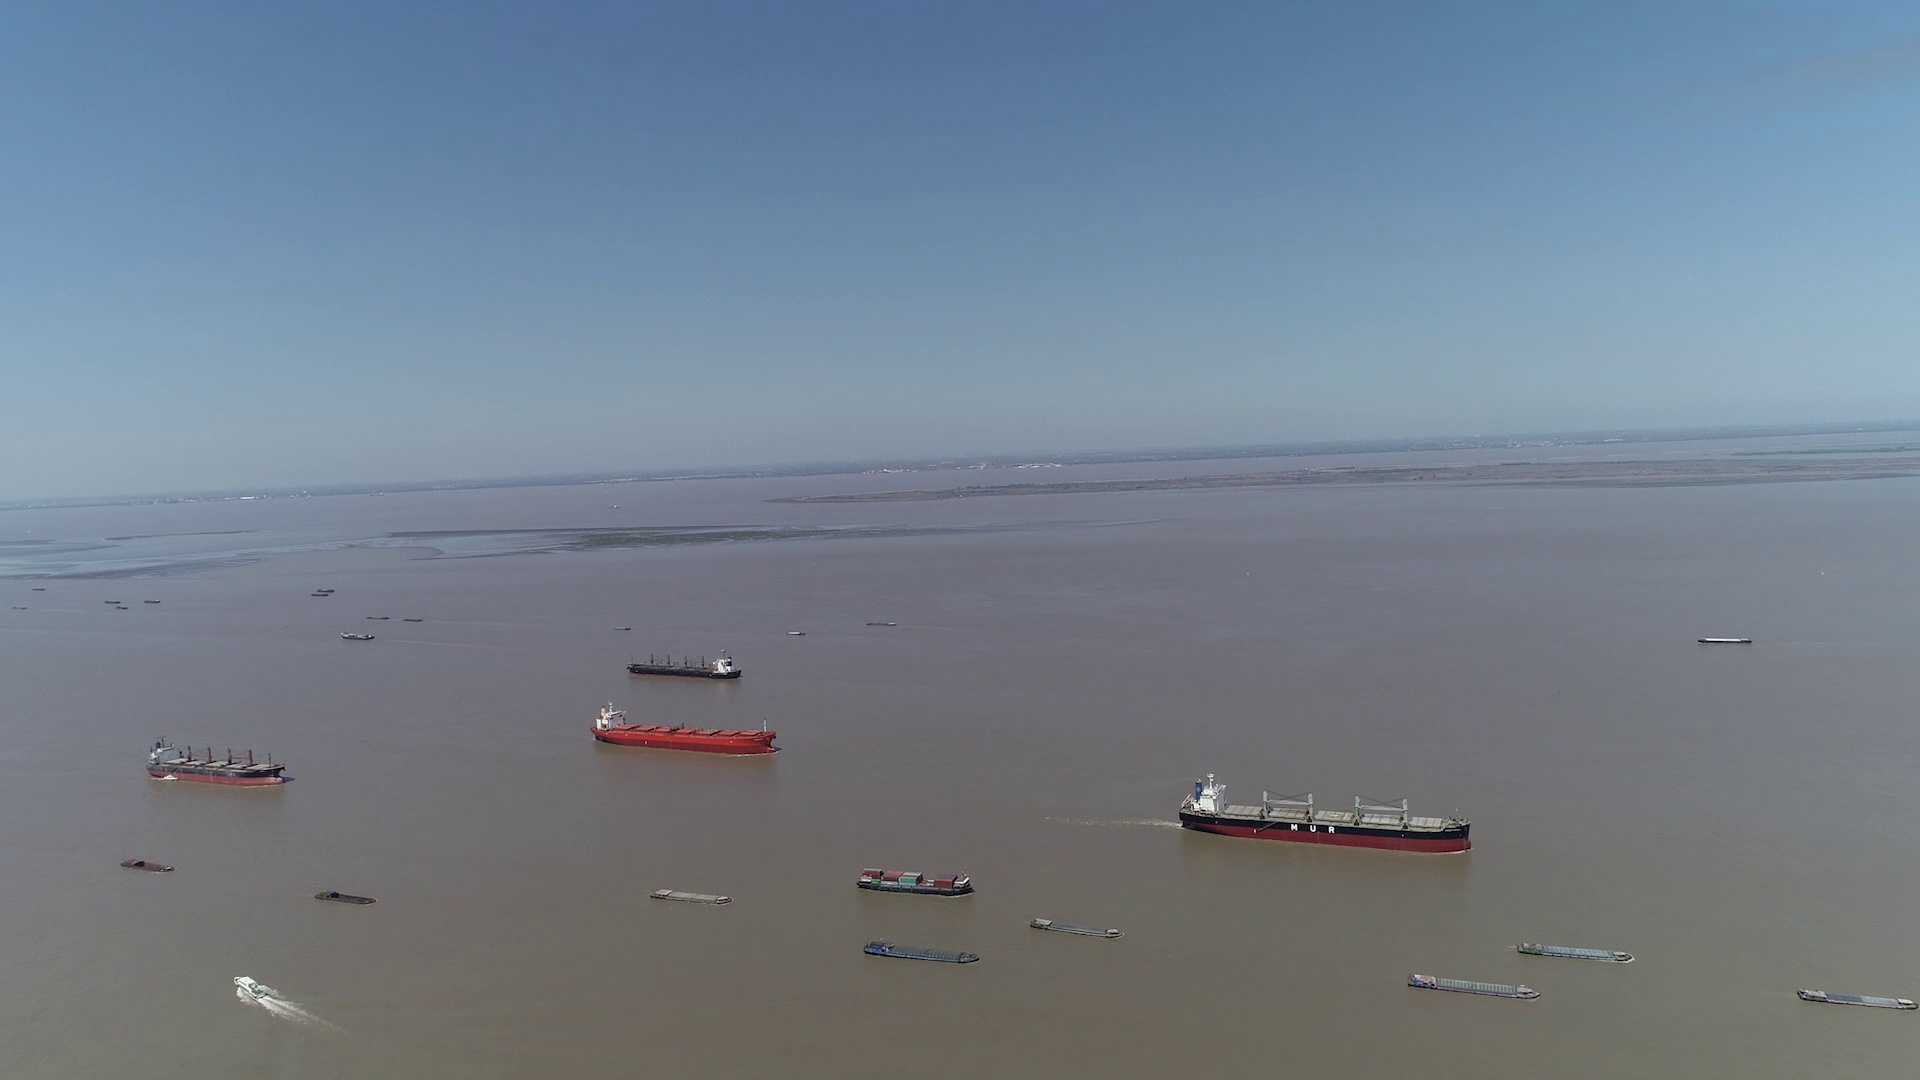ship: (1179, 775, 1472, 855), (591, 703, 778, 753), (148, 736, 287, 786), (1404, 972, 1544, 1000), (856, 868, 972, 895), (626, 651, 740, 678), (1796, 986, 1916, 1009), (862, 940, 978, 963), (1516, 940, 1633, 963), (1029, 915, 1122, 938), (650, 889, 732, 905), (235, 973, 268, 1004), (315, 890, 376, 905), (117, 858, 169, 874), (1698, 637, 1750, 645), (342, 632, 378, 640)
